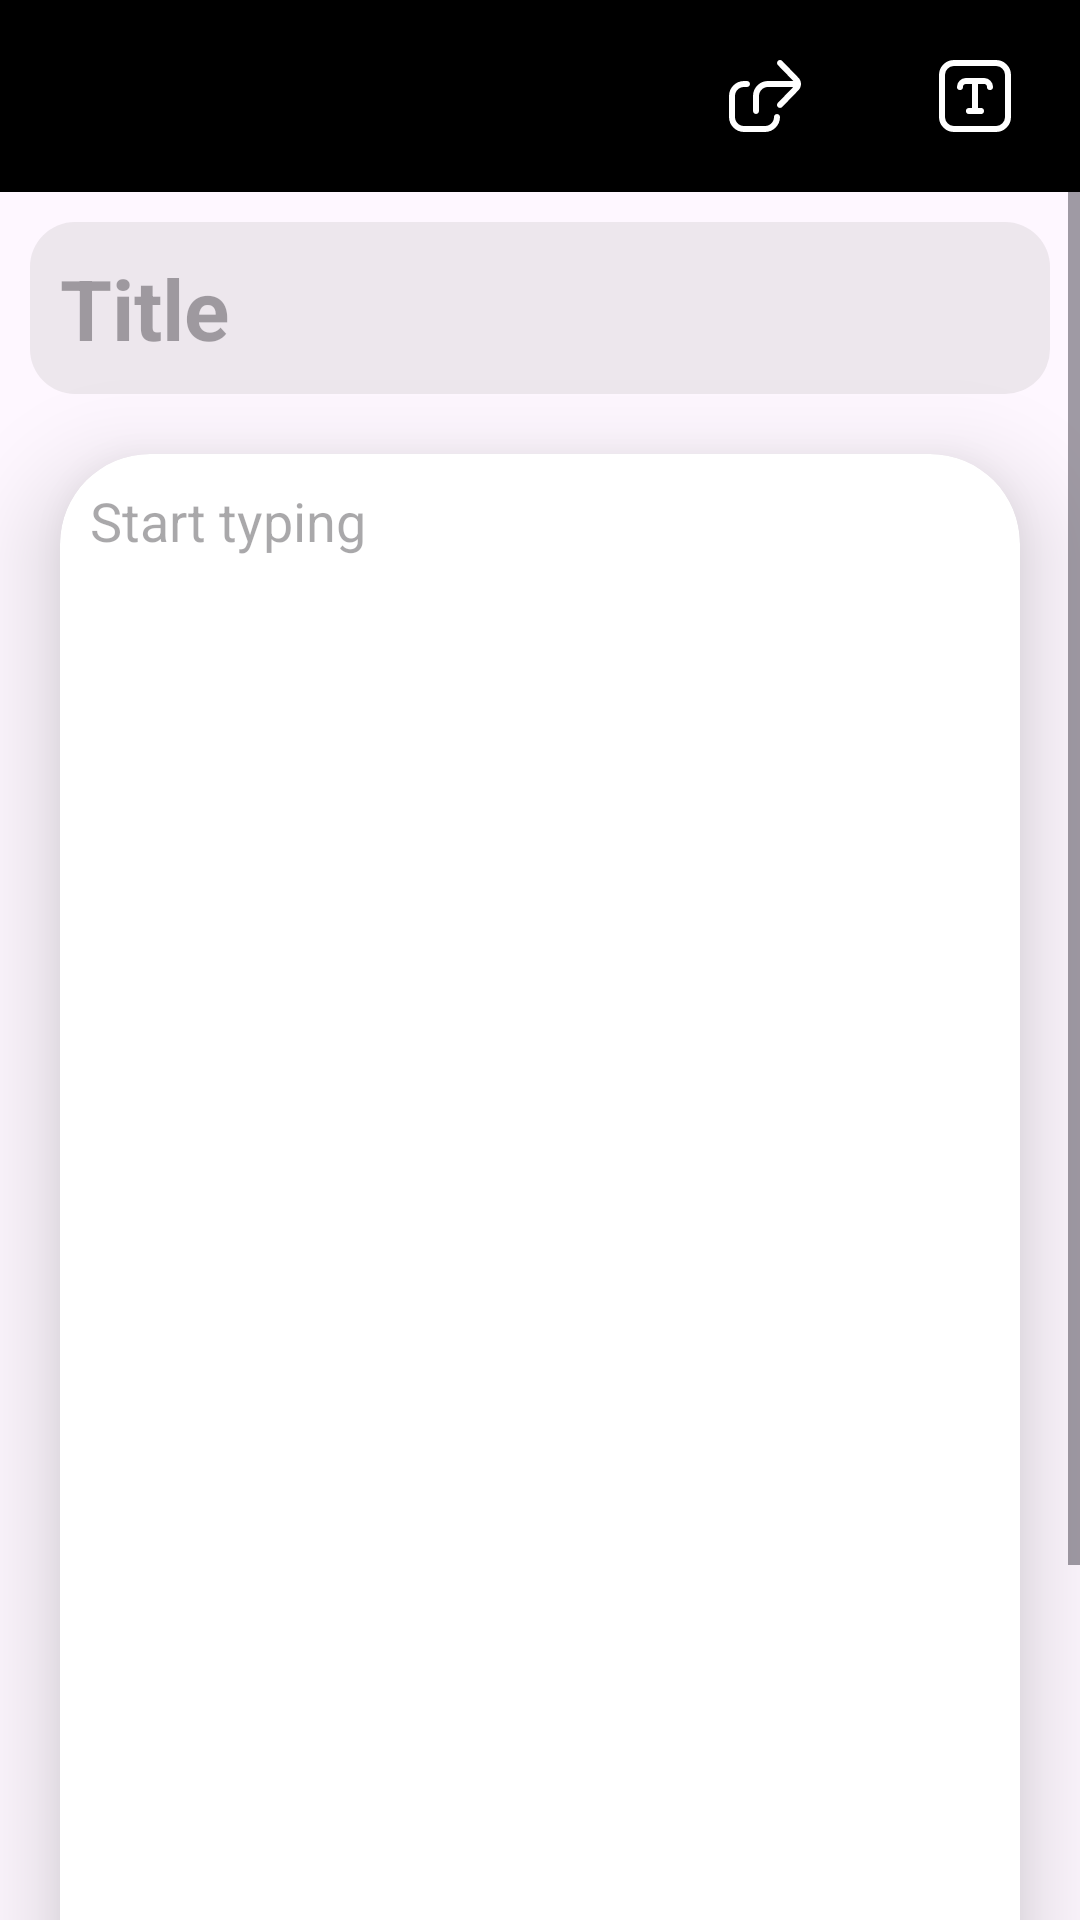

Screen size 1080w x 1920h. Icon name, then its box in pixels as (x1, y1, x2, y2):
share: (729, 60, 801, 132)
style: (939, 60, 1011, 132)
